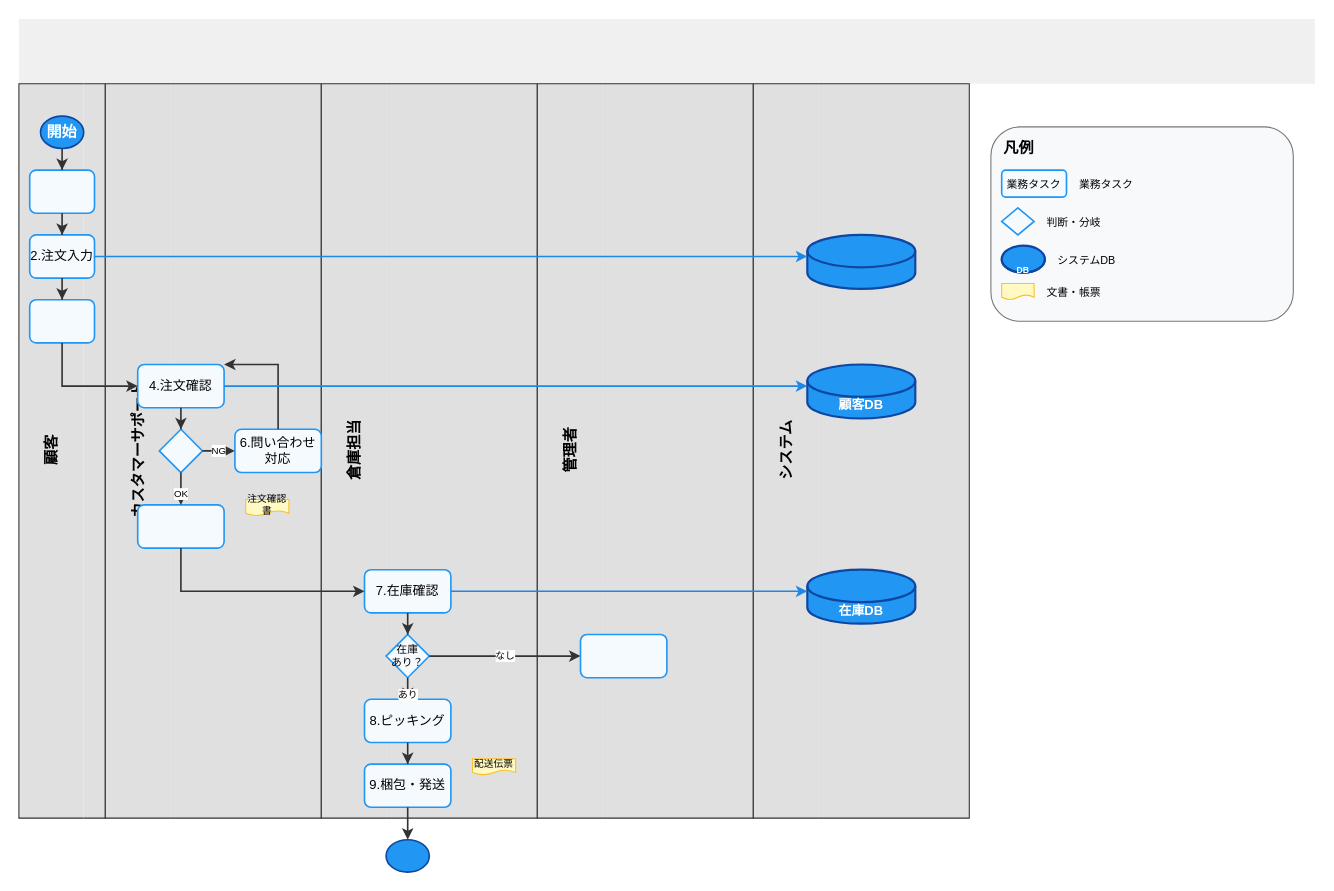
The diagram is 1334 pixels wide and 891 high, and some of its shapes have lost their labels. The shapes that lost their labels are listed below. From the top down, each one's centre as x and y in pixels, then its label:
pixel 666 50: ECサイト注文処理業務フロー 作成日：2025-01-24
pixel 61 191: 1.商品選択
pixel 1017 221: 判断
pixel 861 261: 注文DB
pixel 1017 291: 文書
pixel 61 320: 3.決済処理
pixel 180 450: 注文内容 OK？
pixel 180 526: 5.確認メール送信
pixel 623 655: 10.欠品対応承認
pixel 407 855: 終了
